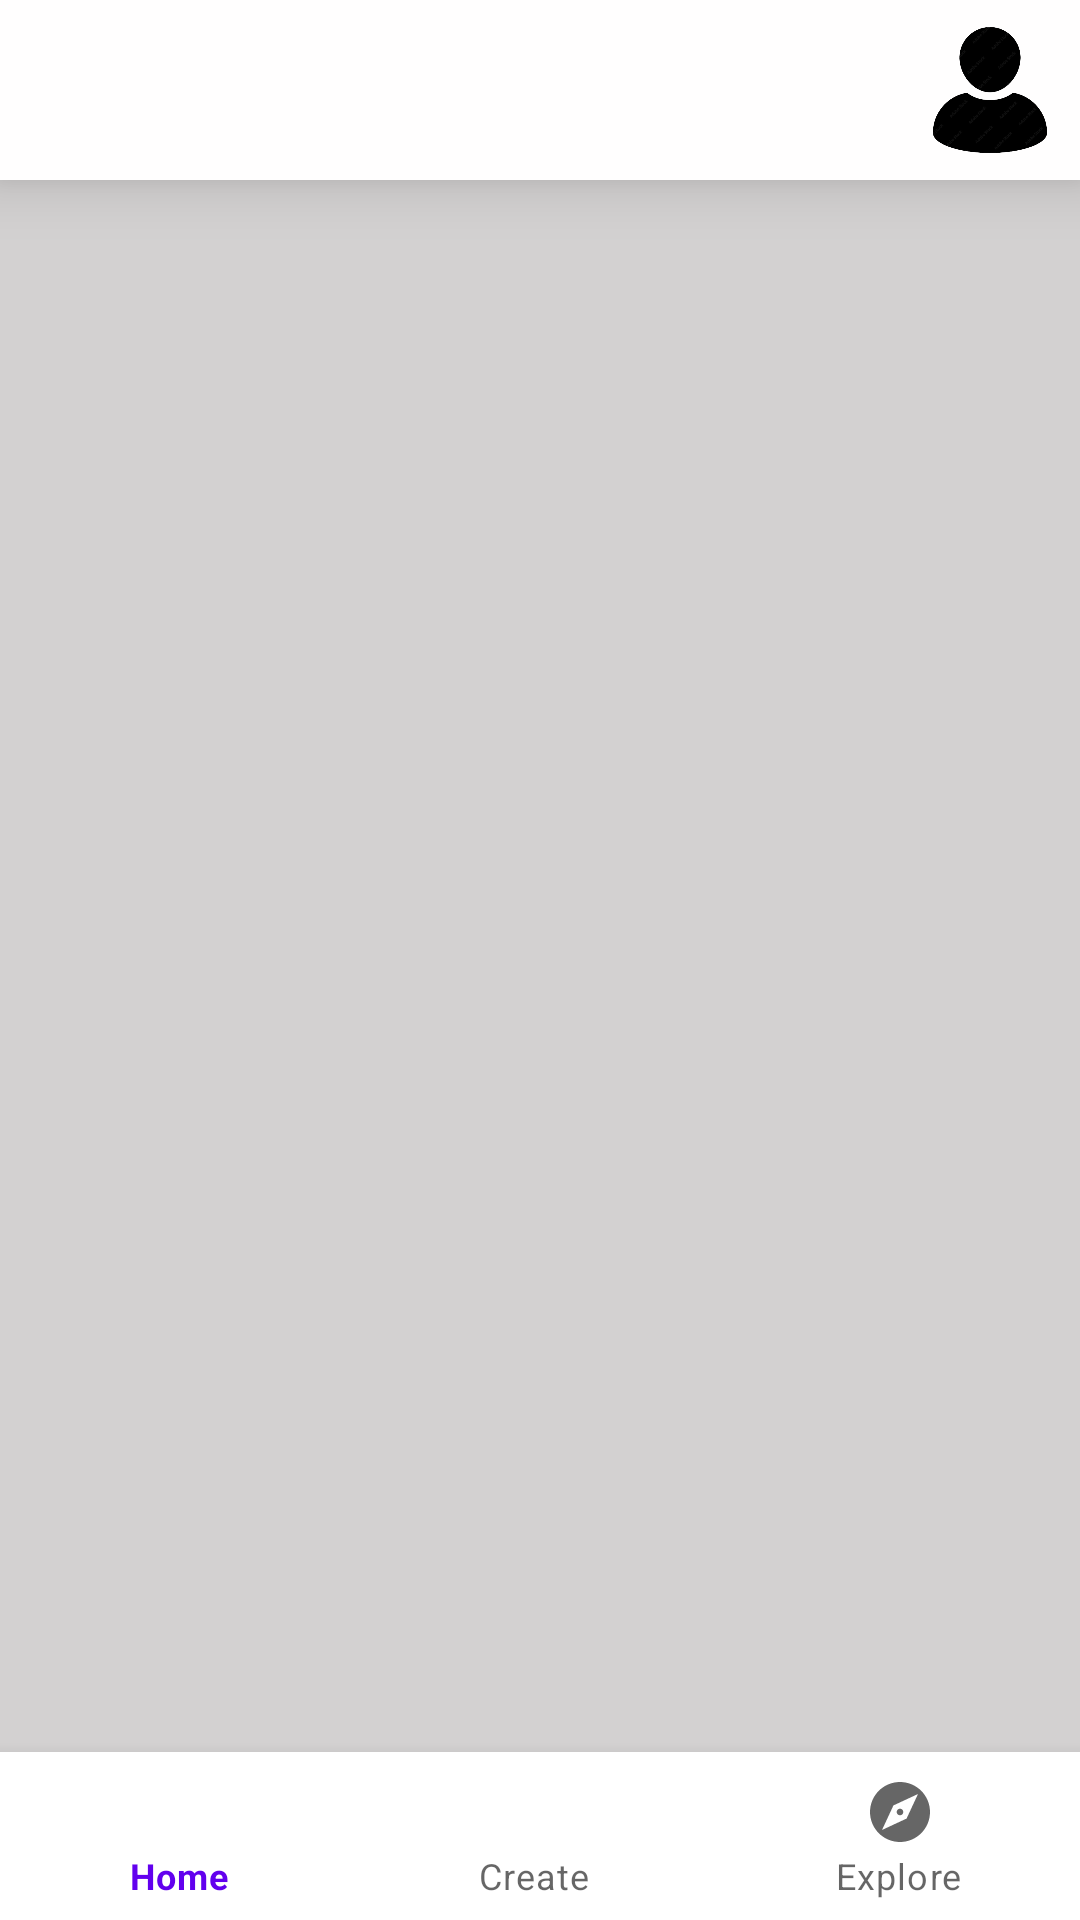

Icons on this 1080x1920 Android screen, each with the point to tap as [x,y]:
profilepng: [990,90]
